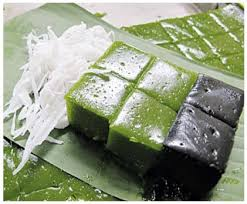kanompiakpoon: (20, 27, 244, 204)
